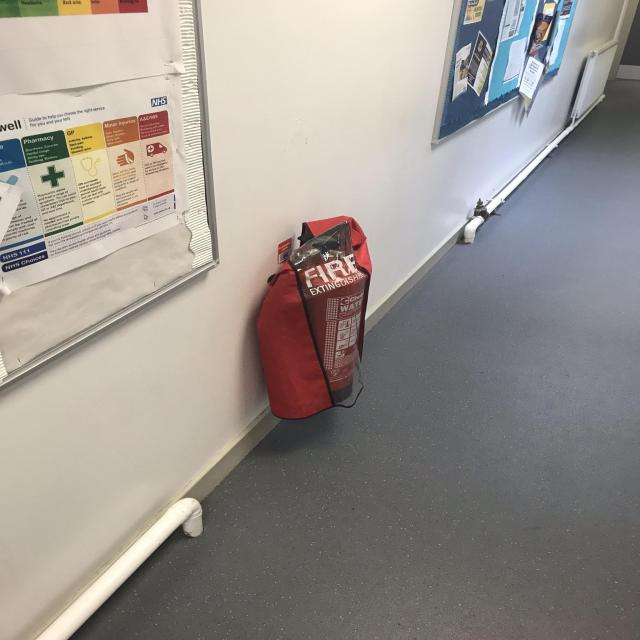fire_extinguisher: (281, 222, 357, 414)
